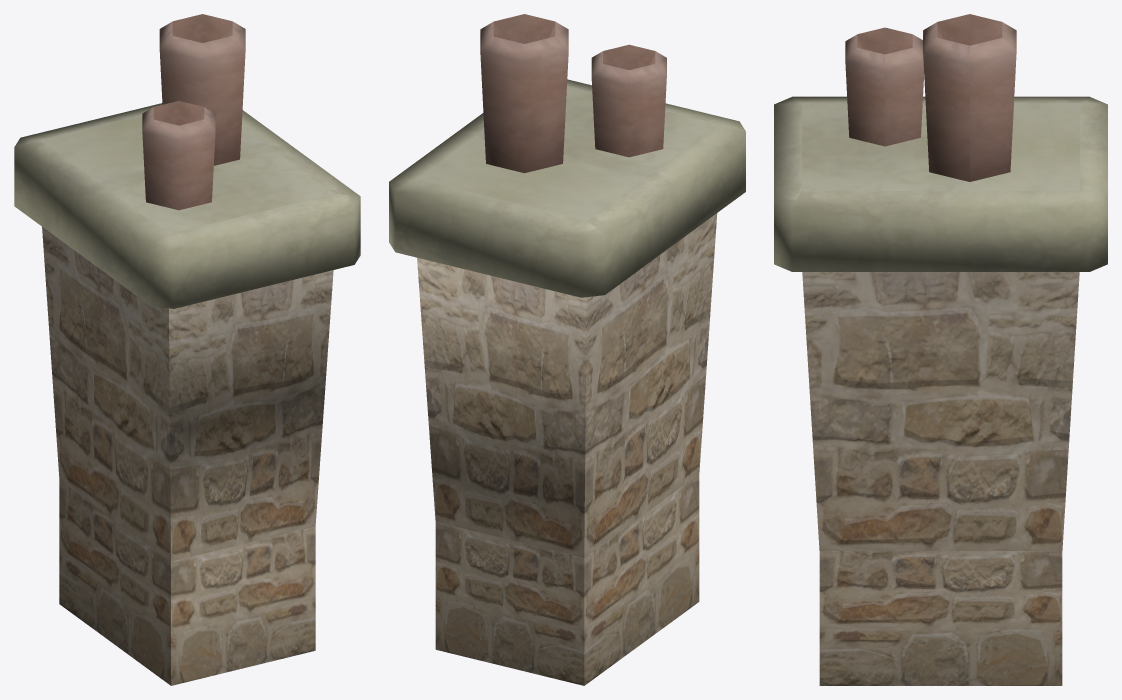
The model's file is Chimney.FBX.
3 views of the same model, side by side, from view 1: azimuth 30°, elevation 25°; view 2: azimuth 150°, elevation 25°; view 3: azimuth 270°, elevation 25° (orthographic). The views are drawn at different scales.
Parts seen in each view (by area): view 1: Chimney; view 2: Chimney; view 3: Chimney.
Part boxes in pixels (x1,y1,x2,y2): Chimney: (14,14,360,685); Chimney: (389,14,745,685); Chimney: (774,14,1107,685).
Bounding box in the file's own units: 0.948 × 1.2 × 2.52.
